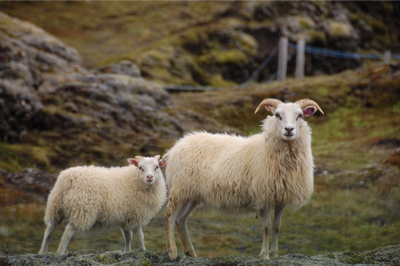koyun: (163, 98, 324, 260), (38, 150, 165, 254)
